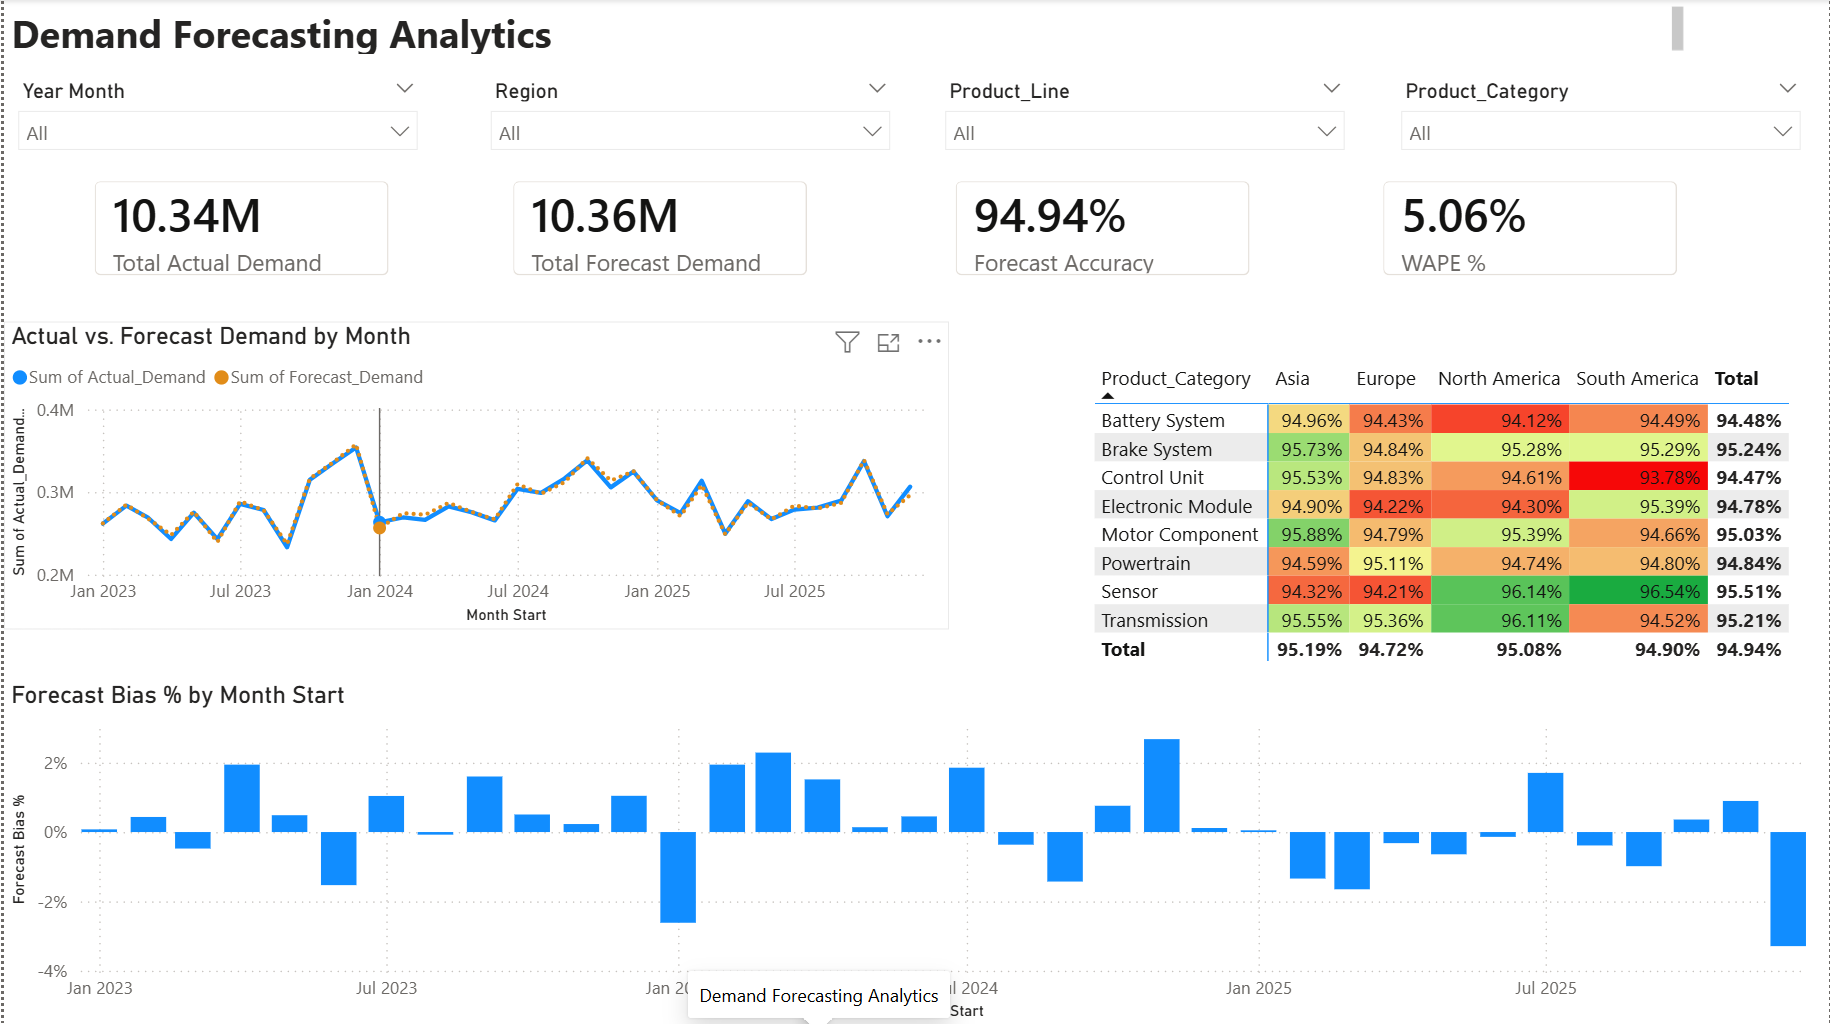

Layout of this report page (visuals, bound fields, positions):
{"tool":"powerbi","page":{"name":"Demand Forecasting Analytics","canvas":[1280,720],"ordinal":2},"visuals":[{"type":"slicer","fields":{"Values":["Calendar.Year Month"]},"box":[0,50,300,65],"z":0},{"type":"slicer","fields":{"Values":["regions.Region"]},"box":[331.4,50,300,65.7],"z":1000},{"type":"slicer","fields":{"Values":["products.Product_Line"]},"box":[650,50,300,65.7],"z":2000},{"type":"slicer","fields":{"Values":["products.Product_Category"]},"box":[970,50,300,65.7],"z":3000},{"type":"cardVisual","fields":{"Data":["sales_orders.Total Actual Demand"]},"box":[46,110,240,100],"z":4000},{"type":"cardVisual","fields":{"Data":["sales_orders.Total Forecast Demand"]},"box":[340,110,240,100],"z":5000},{"type":"cardVisual","fields":{"Data":["sales_orders.Forecast Accuracy"]},"box":[650,110,240,100],"z":6000},{"type":"cardVisual","fields":{"Data":["demand_forecast.WAPE %"]},"box":[950,110,240,100],"z":7000},{"type":"lineChart","title":"Actual vs. Forecast Demand by Month","fields":{"Category":["Calendar.Month Start"],"Y":["Sum(demand_forecast.Actual_Demand)","Sum(demand_forecast.Forecast_Demand)"]},"box":[0,225.9,662,216.1],"z":8000},{"type":"pivotTable","title":"Forecast Accuracy by Product Category and Region ","fields":{"Columns":["regions.Region"],"Rows":["products.Product_Category"],"Values":["sales_orders.Forecast Accuracy"]},"box":[759.4,250.7,500.1,226.2],"z":9000},{"type":"clusteredColumnChart","title":"Monthly Forecast Bias","fields":{"Category":["Calendar.Month Start"],"Y":["sales_orders.Forecast Bias %"]},"box":[0,477.5,1280,242.5],"z":10000},{"type":"textbox","box":[0,0,1182.2,43.2],"z":11000}]}

Visuals, with their boxes in screenshot pixels (x1, y1, x2, y2), scaled from the page's 1280x720 canvas onto the 1830x1024 screenshot:
slicer - Calendar.Year Month: <bbox>0, 71, 429, 164</bbox>
slicer - regions.Region: <bbox>474, 71, 903, 165</bbox>
slicer - products.Product_Line: <bbox>929, 71, 1358, 165</bbox>
slicer - products.Product_Category: <bbox>1387, 71, 1816, 165</bbox>
cardVisual - sales_orders.Total Actual Demand: <bbox>66, 156, 409, 299</bbox>
cardVisual - sales_orders.Total Forecast Demand: <bbox>486, 156, 829, 299</bbox>
cardVisual - sales_orders.Forecast Accuracy: <bbox>929, 156, 1272, 299</bbox>
cardVisual - demand_forecast.WAPE %: <bbox>1358, 156, 1701, 299</bbox>
"Actual vs. Forecast Demand by Month" lineChart: <bbox>0, 321, 946, 629</bbox>
"Forecast Accuracy by Product Category and Region " pivotTable: <bbox>1086, 357, 1801, 678</bbox>
"Monthly Forecast Bias" clusteredColumnChart: <bbox>0, 679, 1829, 1023</bbox>
textbox: <bbox>0, 0, 1690, 61</bbox>
